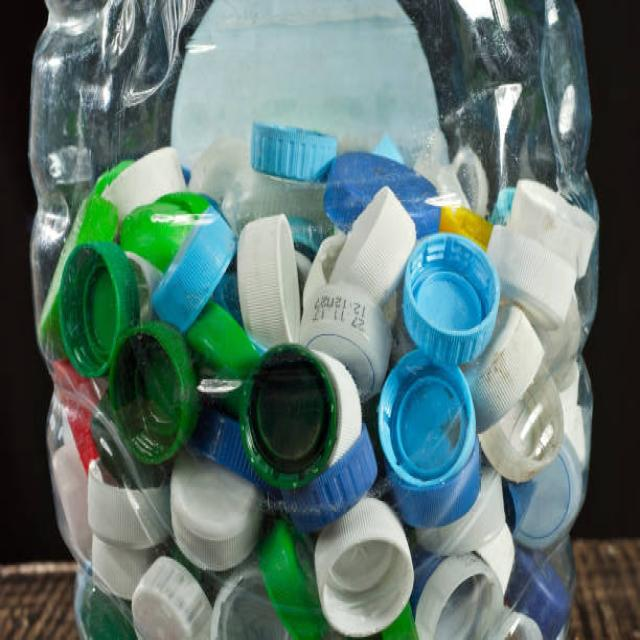plastic: (82, 200, 492, 574)
